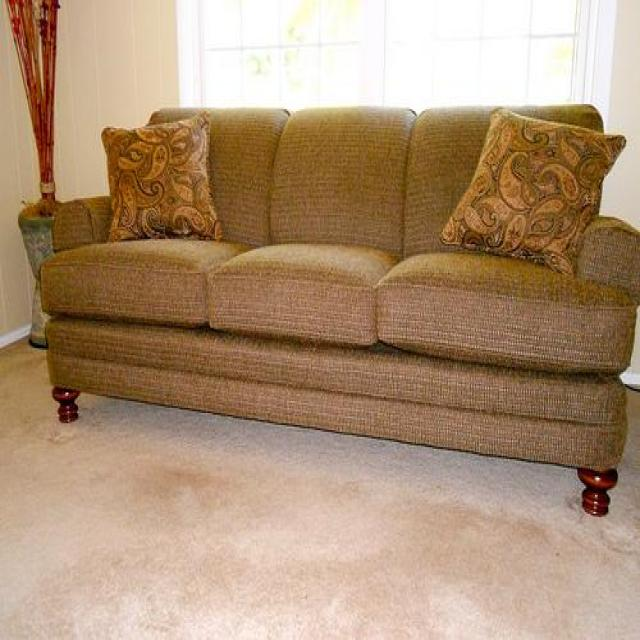sofa: (35, 101, 640, 519)
